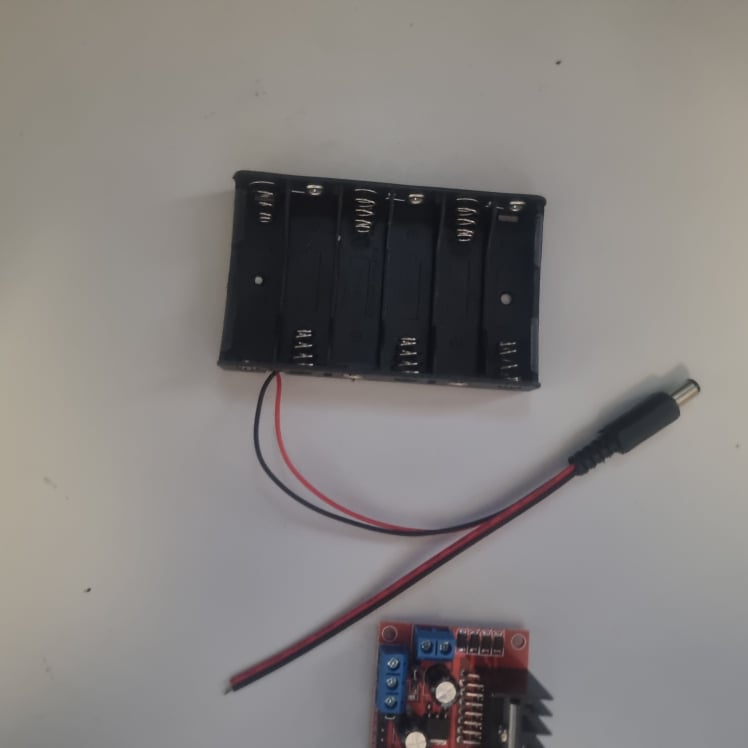BATTERY BOX: (215, 169, 546, 389)
MOTOR: (373, 617, 555, 748)
